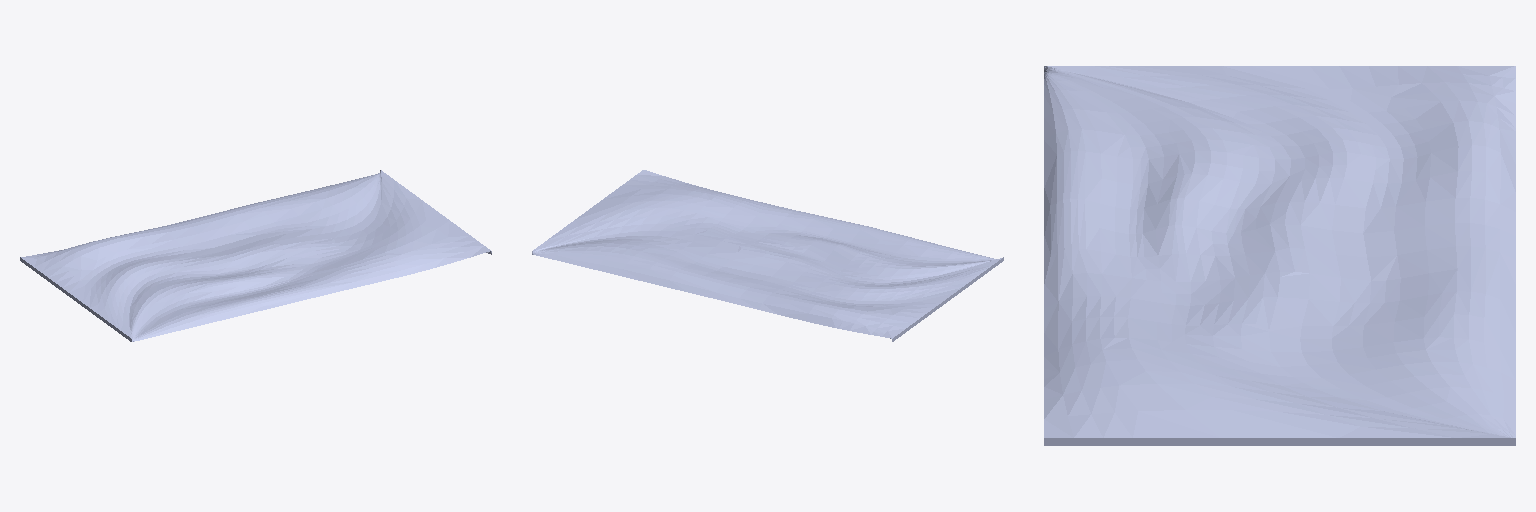
robot.urdf — floor_feature_4:
<?xml version="1.0" encoding="utf-8"?>
<!-- This URDF was automatically created by SolidWorks to URDF Exporter! Originally created by [author] ([email redacted]) 
     Commit Version: 1.6.0-1-g15f4949  Build Version: 1.6.7594.29634
     For more information, please see http://wiki.ros.org/sw_urdf_exporter -->
<robot
  name="floor_feature_4">
  <link
    name="base_link">
    <inertial>
      <origin
        xyz="0.261050530697544 0.0688081809035693 0.00352984488136476"
        rpy="0 0 0" />
      <mass
        value="0.378327818353963" />
      <inertia
        ixx="0.000592157576976357"
        ixy="0.000161217494134504"
        ixz="-1.8686436865113E-05"
        iyy="0.00805547215624353"
        iyz="-2.41675880474071E-06"
        izz="0.00864274364927133" />
    </inertial>
    <visual>
      <origin
        xyz="0 0 0"
        rpy="0 0 0" />
      <geometry>
        <mesh
          filename="package://floor_feature_4/meshes/base_link.STL" scale="20 40 20"/>
      </geometry>
      <material
        name="">
        <color
          rgba="0.792156862745098 0.819607843137255 0.933333333333333 1" />
      </material>
    </visual>
    <collision>
      <origin
        xyz="0 0 0"
        rpy="0 0 0" />
      <geometry>
        <mesh
          filename="package://floor_feature_4/meshes/base_link.STL" scale="20 40 20"/>
      </geometry>
    </collision>
  </link>

<gazebo reference = 'base_link'>
<material> Gazebo/Sand_Floor </material>
</gazebo>

<gazebo>
<static> true </static>
</gazebo>

</robot>

--- What the picture shows (computed from the rendered views, not written in the file) ---
3 views of the same robot in one strip: view 1: azimuth 30°, elevation 25°; view 2: azimuth 150°, elevation 25°; view 3: azimuth 270°, elevation 25° (orthographic).
Robot: floor_feature_4 — 1 links, 0 joints (none); root link base_link; default pose: every joint at zero.
Visible links, largest first — view 1: base_link; view 2: base_link; view 3: base_link.
Link boxes in pixels (bbox=[...]): base_link: bbox=[20, 170, 491, 341]; base_link: bbox=[532, 170, 1003, 341]; base_link: bbox=[1044, 66, 1515, 445].
Size in the robot's own frame: 10 by 5.35 by 0.2589 metres.
1 mesh visuals loaded from 1 distinct referenced files (1 binary STL).